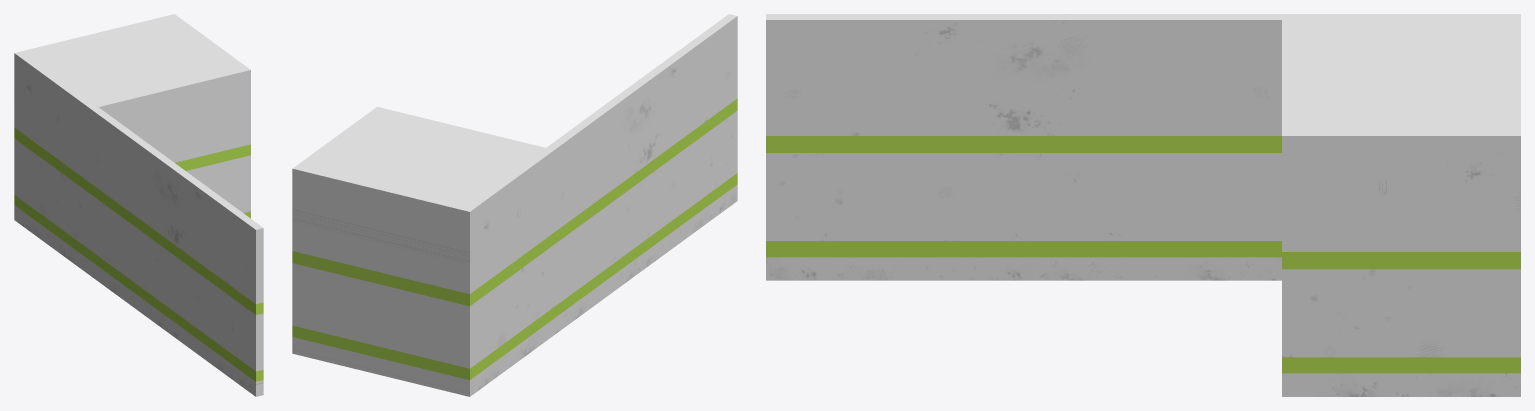
The model's file is fbx_CVS_wall.fbx.
3 renders of one model, left to right at view 1: azimuth 30°, elevation 25°; view 2: azimuth 150°, elevation 25°; view 3: azimuth 270°, elevation 25°, orthographic. The views are drawn at different scales.
Parts seen in each view (by area): view 1: fbx_CVS_wall; view 2: fbx_CVS_wall; view 3: fbx_CVS_wall.
Boxes of the visible parts, x1,y1,x2,y2 form: fbx_CVS_wall: [14, 14, 263, 396]; fbx_CVS_wall: [292, 14, 737, 396]; fbx_CVS_wall: [766, 14, 1520, 396].
Bounding box in the file's own units: 6 × 5.98 × 15.68.
Materials: 1 (1 with a texture image).
